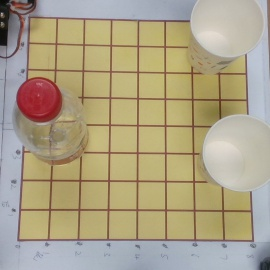bottle: (9, 76, 104, 179)
cup: (182, 0, 264, 87), (191, 113, 270, 198)
